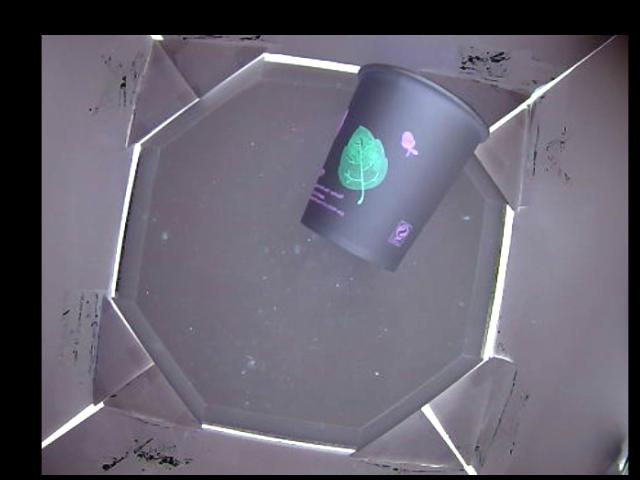Cup: (300, 65, 493, 271)
